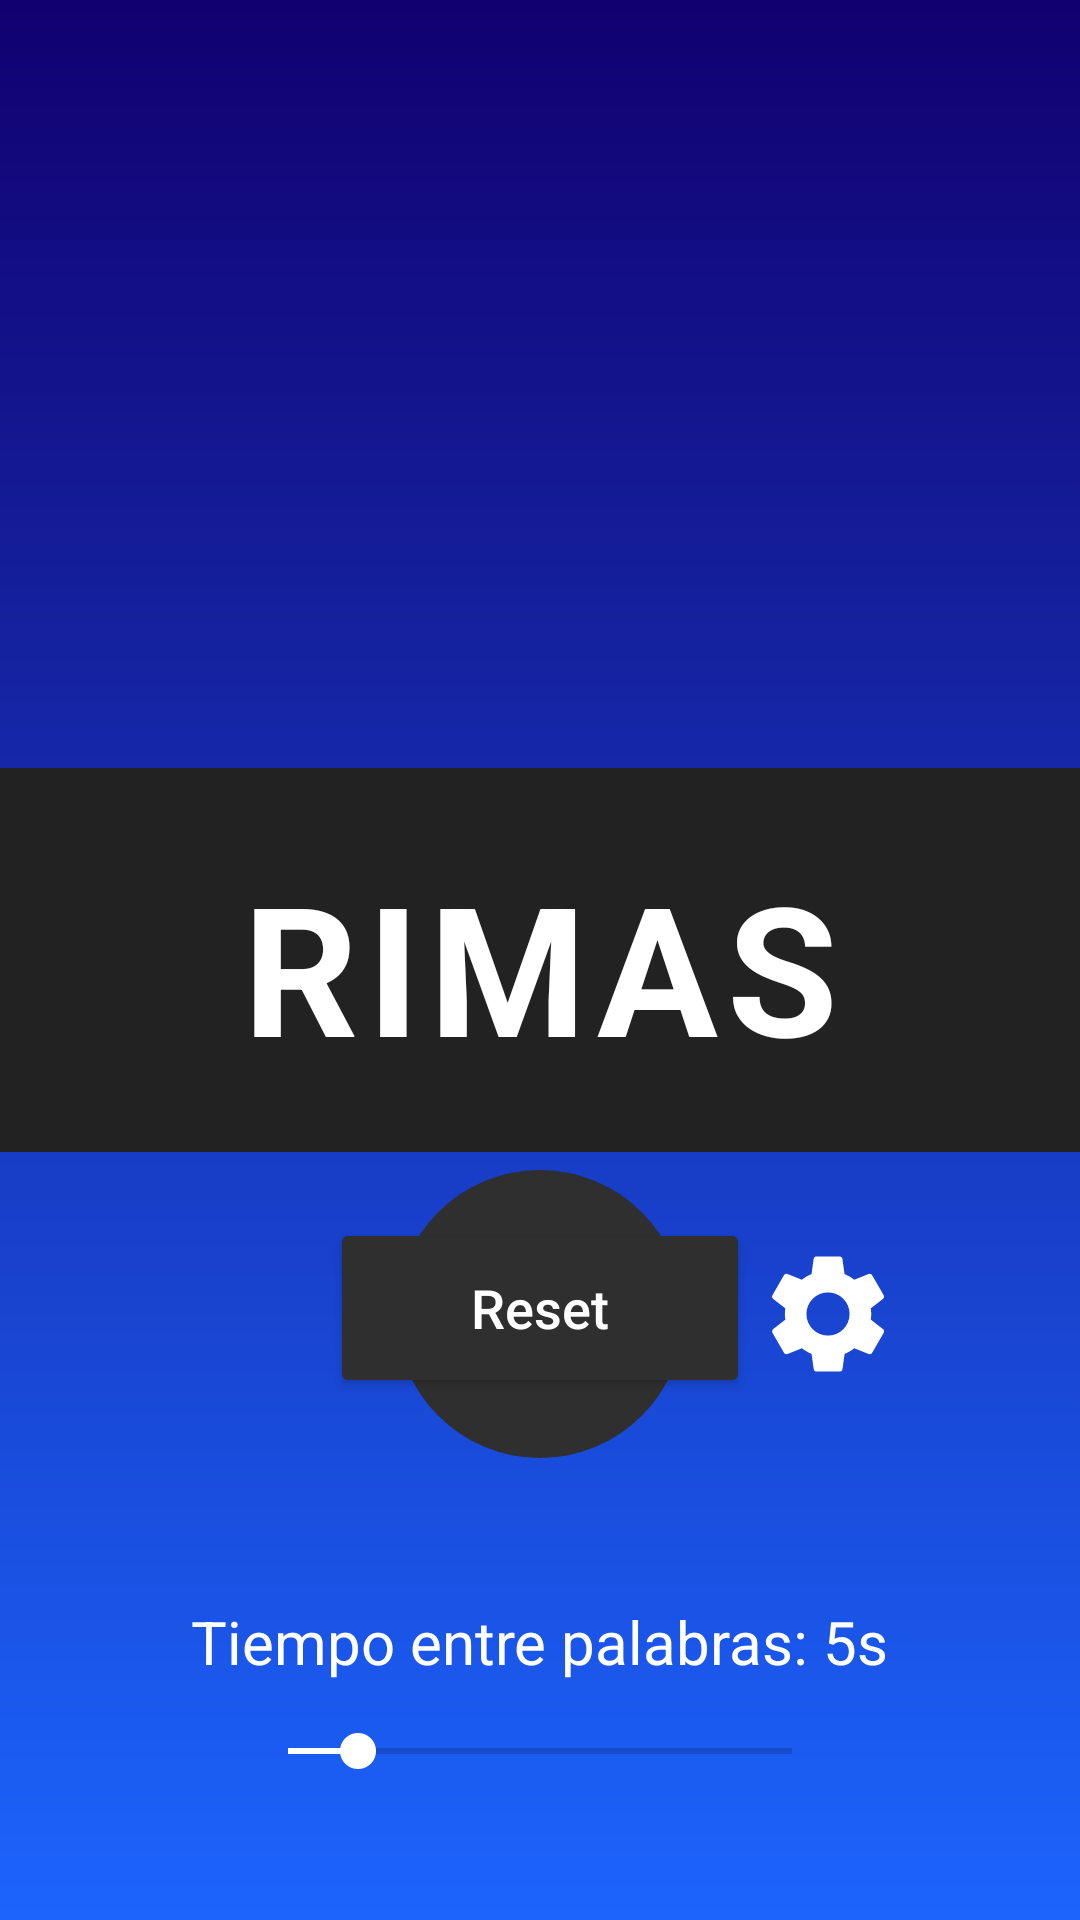

Named icons in this screenshot (1080px×1920px) and their centers, (x=x, y=y):
Options: (x=828, y=1314)
